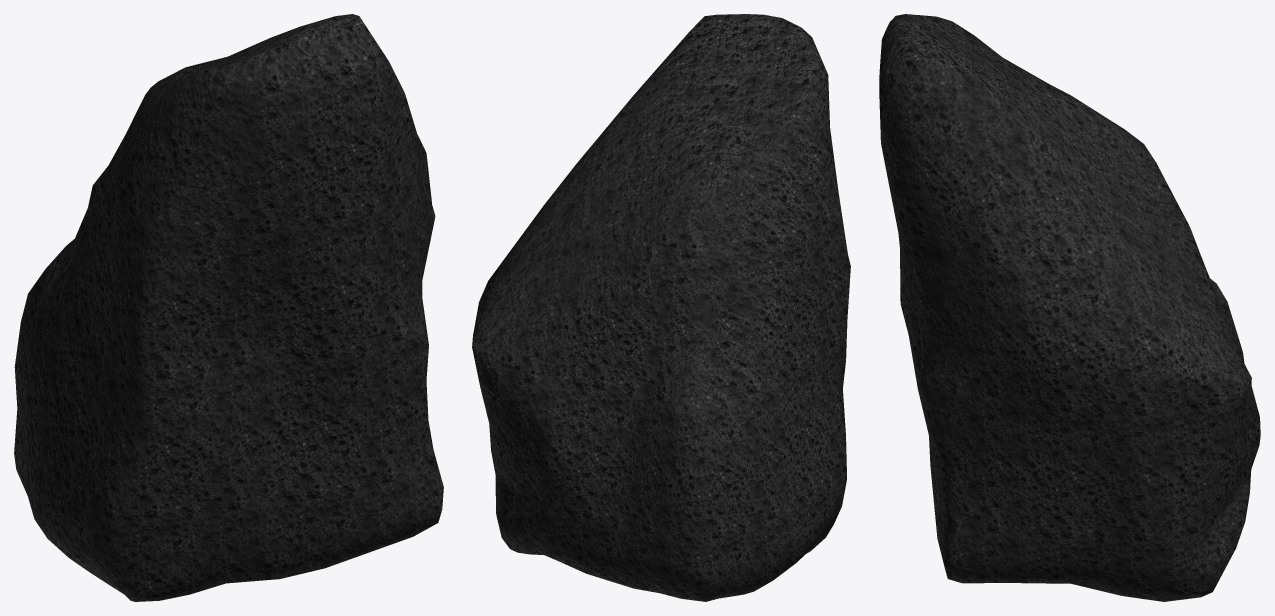
The model's file is SculptedBasalt01.fbx.
3 renders of one model, left to right at view 1: azimuth 30°, elevation 25°; view 2: azimuth 150°, elevation 25°; view 3: azimuth 270°, elevation 25°, orthographic. The views are drawn at different scales.
Visible parts, largest first — view 1: SculptedBasalt01_LOD0; view 2: SculptedBasalt01_LOD0; view 3: SculptedBasalt01_LOD0.
Boxes of the visible parts, bbox=[...] form: SculptedBasalt01_LOD0: bbox=[14, 14, 443, 601]; SculptedBasalt01_LOD0: bbox=[472, 14, 850, 601]; SculptedBasalt01_LOD0: bbox=[879, 14, 1260, 601].
Size of what is drawn, in the model's own units: 3.18 by 4.96 by 3.23.
1 material, 1 textured.
